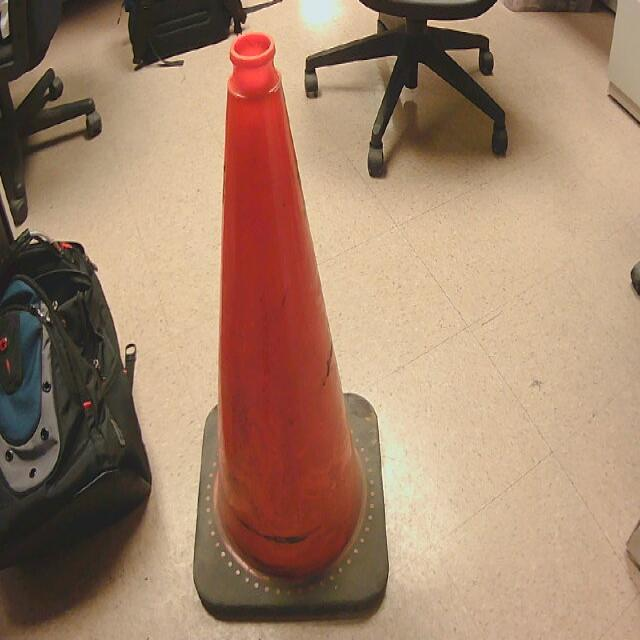traffic cone: (194, 30, 392, 626)
